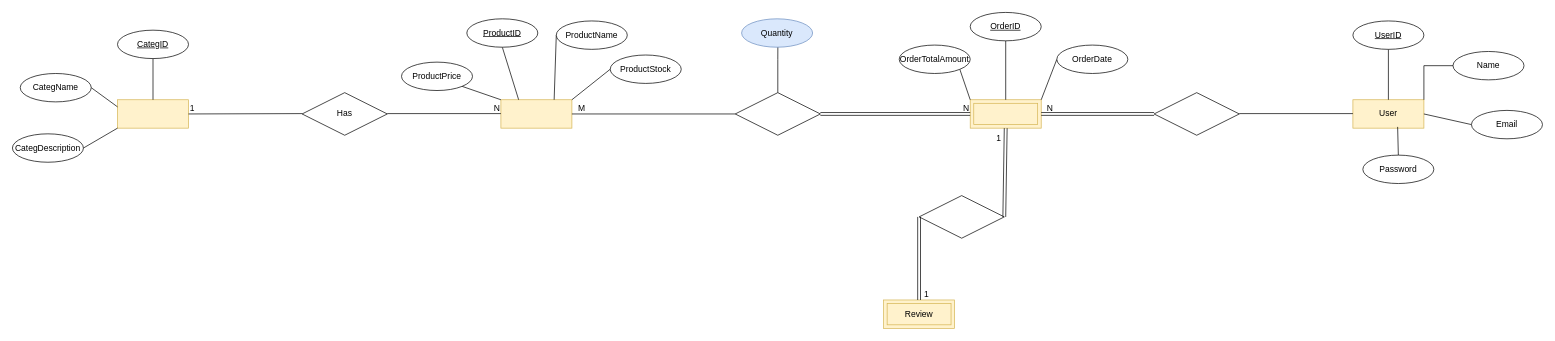
The diagram is 1555 pixels wide and 341 high, and some of its shapes have lost their labels. The shapes that lost their labels are listed below. From the top down, each one's box as (x1, y1, x2, y2) in pixels, then its label:
(117, 99, 189, 128): Category
(500, 99, 572, 128): Product
(734, 92, 820, 135): Contain
(970, 99, 1041, 128): Order
(1153, 92, 1239, 135): Place
(918, 195, 1004, 238): OrderProduct
